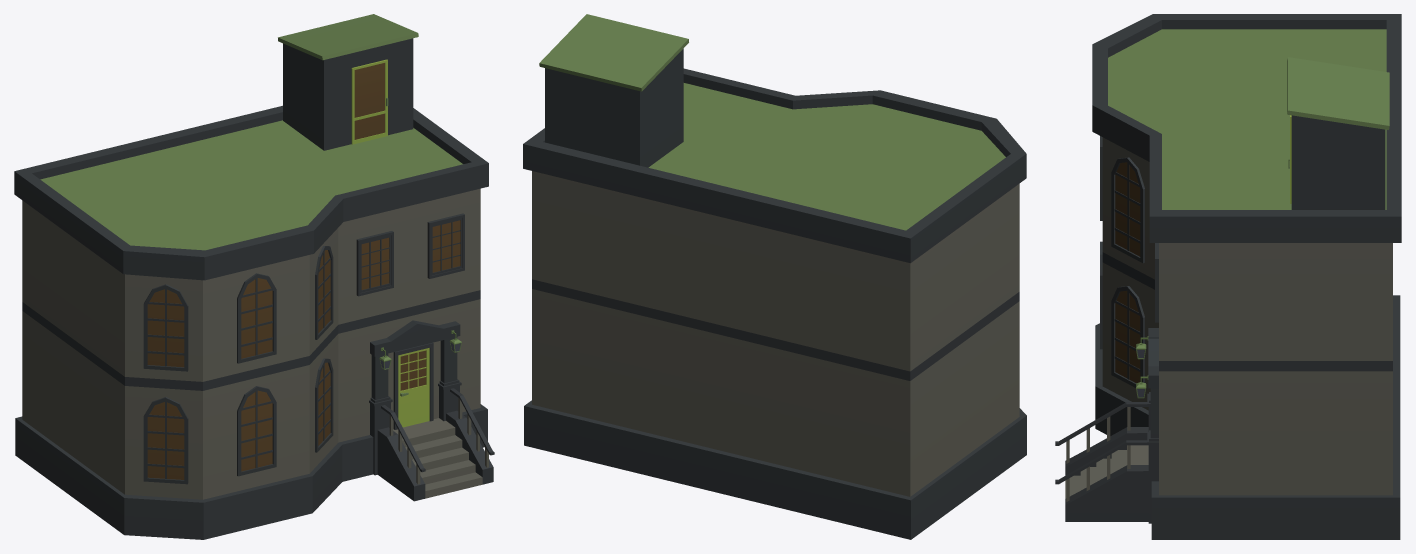
The model's file is House_17.fbx.
3 renders of one model, left to right at view 1: azimuth 30°, elevation 25°; view 2: azimuth 150°, elevation 25°; view 3: azimuth 270°, elevation 25°, orthographic. The views are drawn at different scales.
Parts seen in each view (by area): view 1: House_17; view 2: House_17; view 3: House_17.
Part boxes in pixels (x1,y1,x2,y2): House_17: (14, 14, 494, 539); House_17: (523, 14, 1026, 539); House_17: (1055, 14, 1401, 539).
Size of the model in its own units: 10.24 by 9.99 by 7.4.
